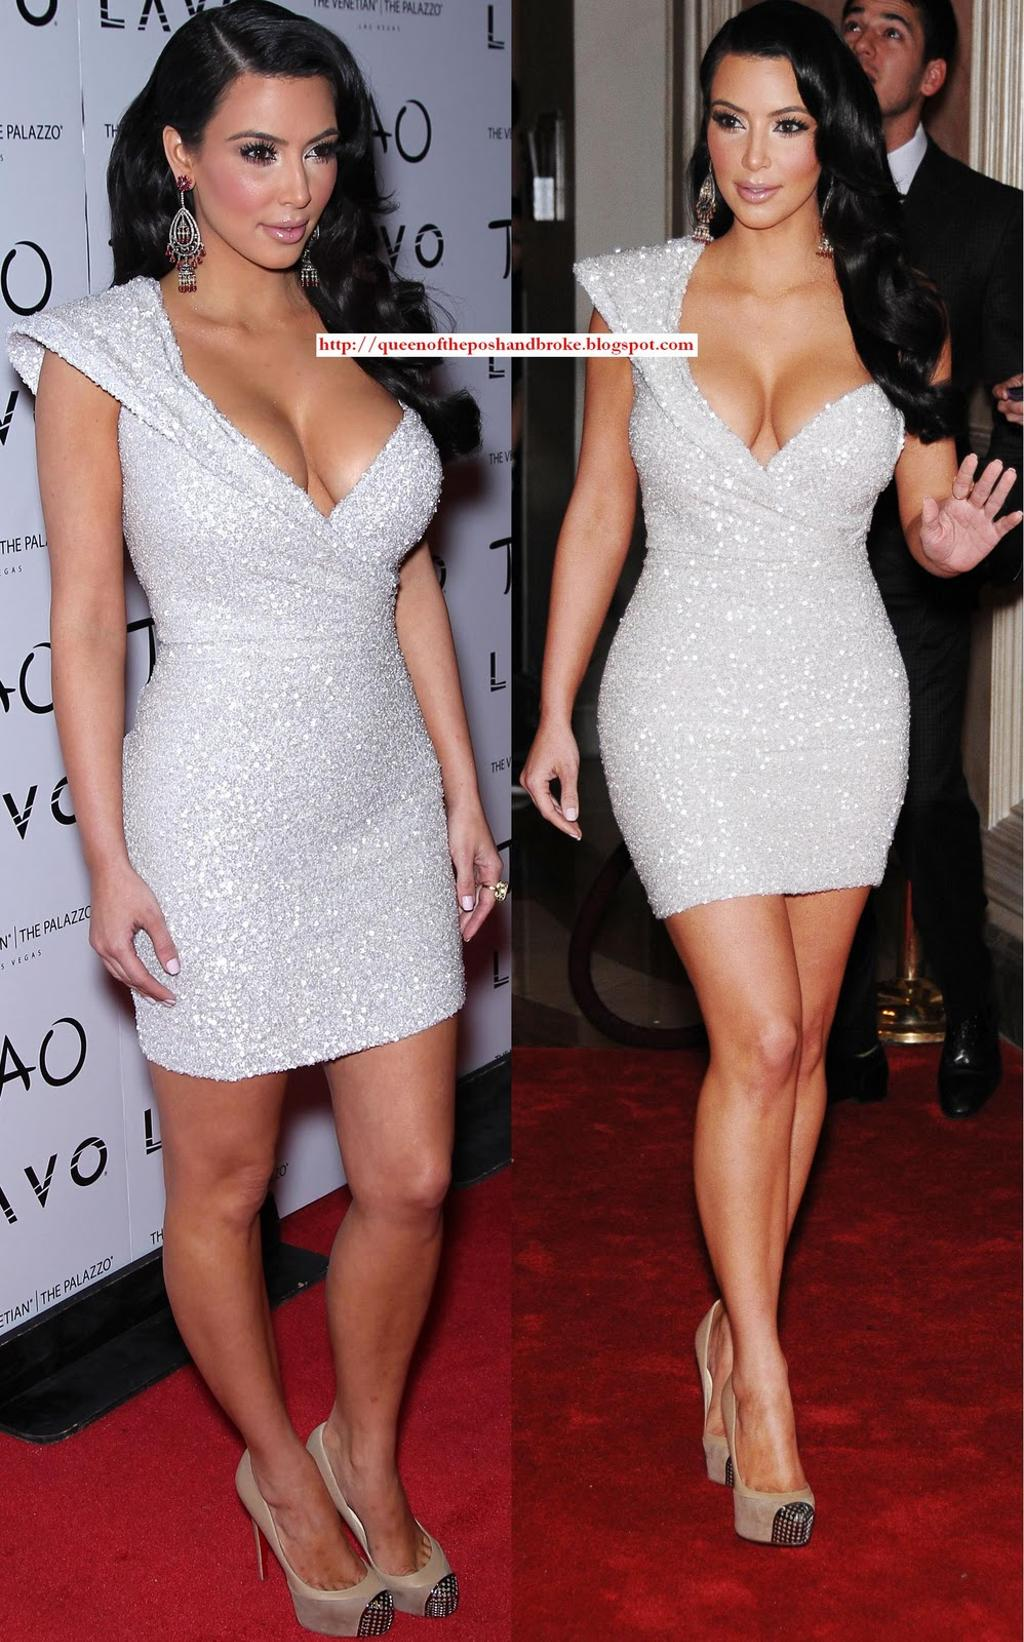face: (196, 64, 344, 273), (703, 48, 822, 225), (831, 3, 927, 112)
